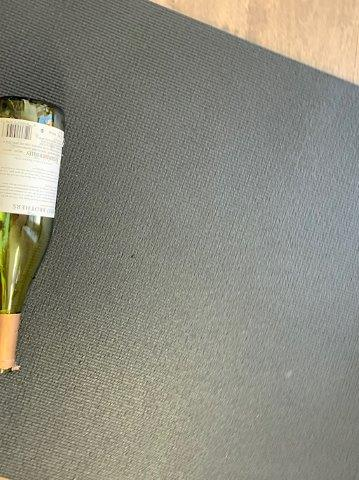botolkaca: (1, 95, 64, 376)
